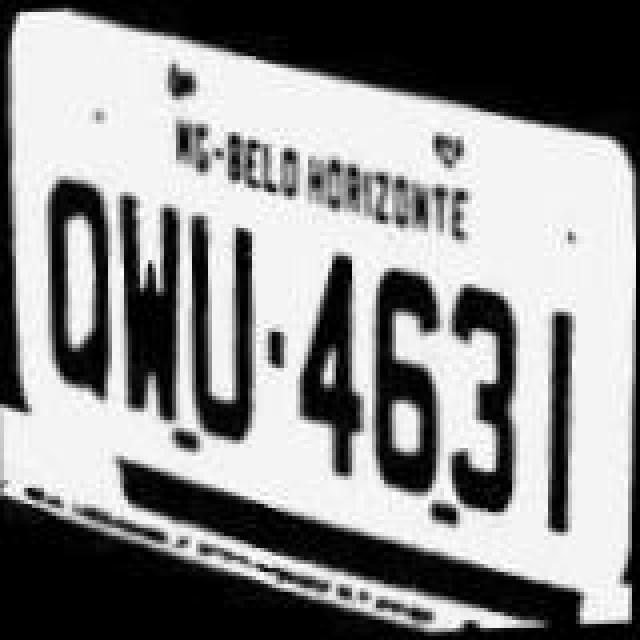1: (536, 286, 600, 550)
3: (444, 260, 532, 540)
4: (294, 232, 374, 496)
6: (360, 250, 452, 526)
Q: (30, 148, 126, 428)
U: (174, 198, 266, 478)
W: (104, 178, 192, 454)
